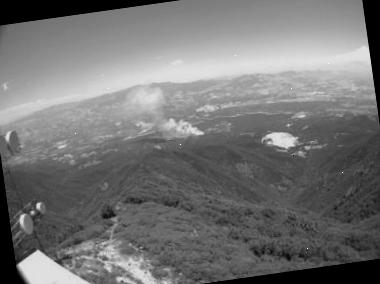smoke: (107, 73, 206, 149)
